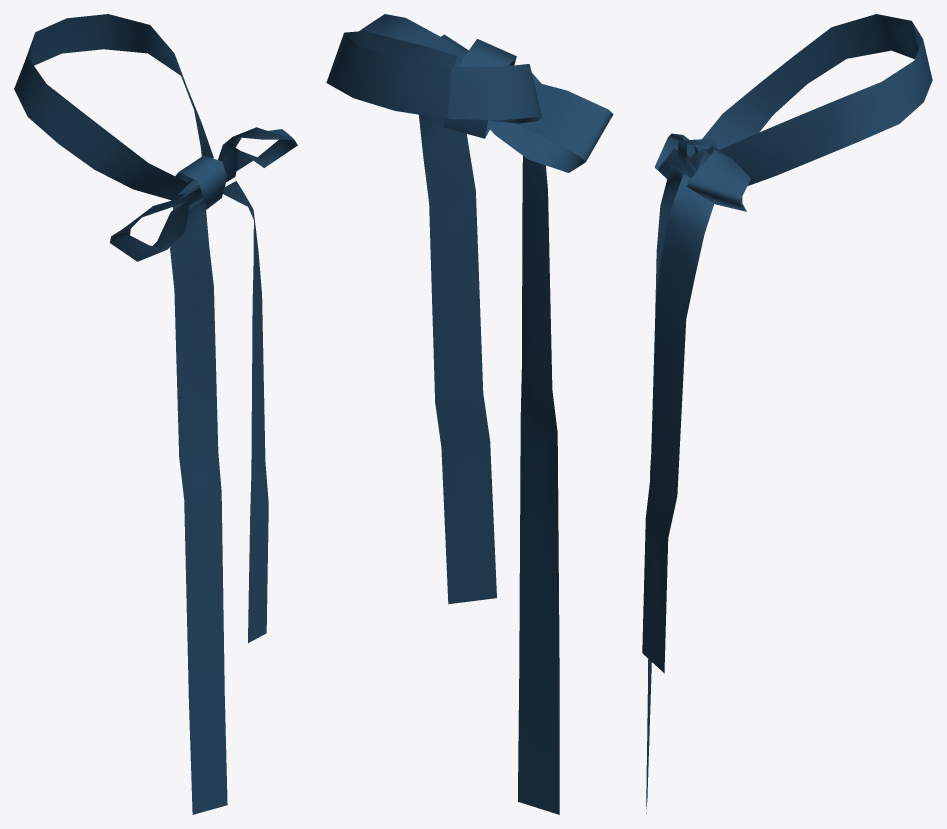
File: RIBBON_1.fbx
3 renders of one model, left to right at view 1: azimuth 30°, elevation 25°; view 2: azimuth 150°, elevation 25°; view 3: azimuth 270°, elevation 25°, orthographic. The views are drawn at different scales.
Size of the model in its own units: 108 by 120 by 347.
